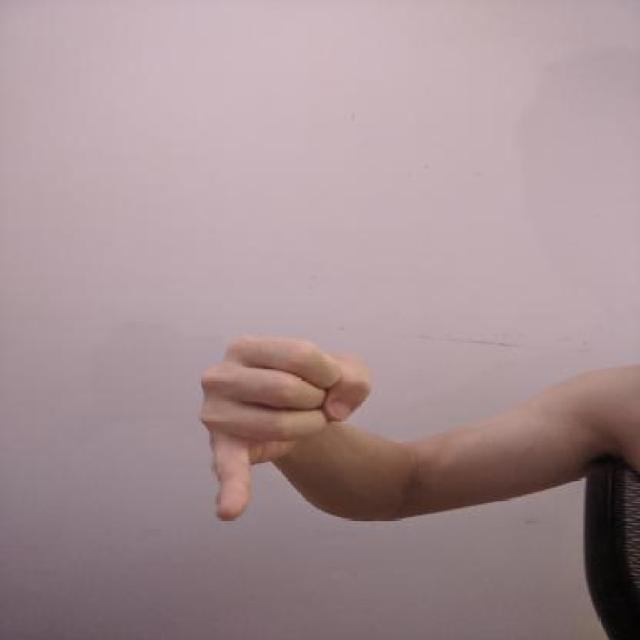J: (189, 327, 381, 534)
